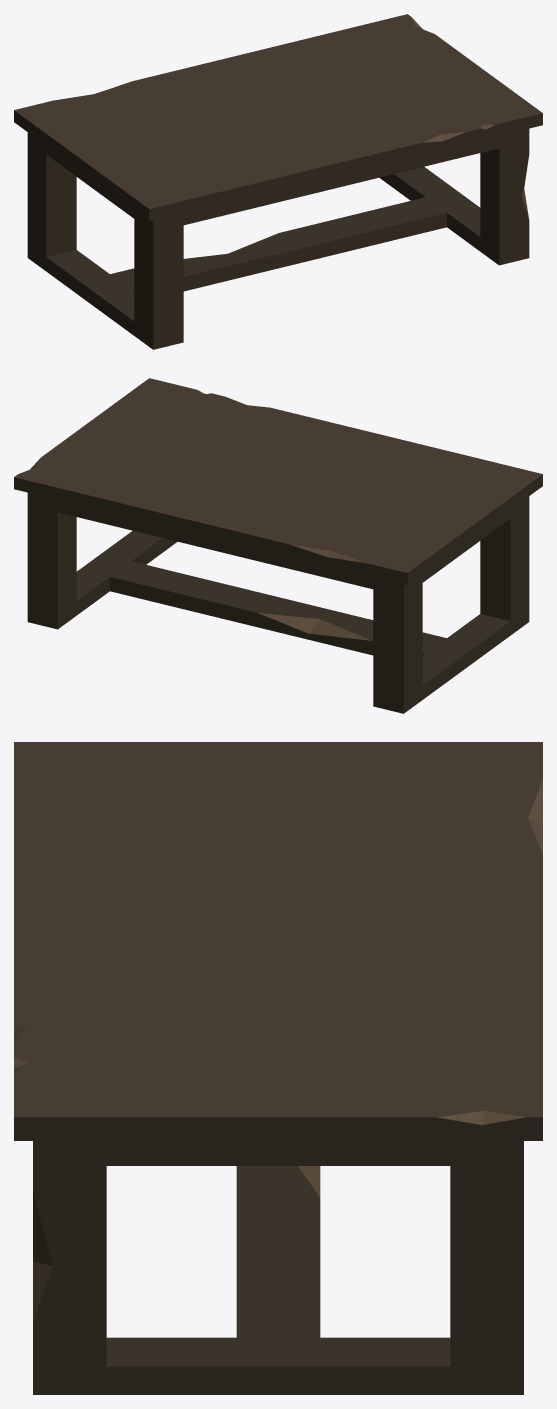
The model's file is SM_Prop_CoffeeTable_01.fbx.
3 views of the same model, one above another, from view 1: azimuth 30°, elevation 25°; view 2: azimuth 150°, elevation 25°; view 3: azimuth 270°, elevation 25° (orthographic). The views are drawn at different scales.
Parts seen in each view (by area): view 1: SM_Prop_CoffeeTable_01; view 2: SM_Prop_CoffeeTable_01; view 3: SM_Prop_CoffeeTable_01.
Part boxes in pixels (bbox=[...]): SM_Prop_CoffeeTable_01: bbox=[14, 14, 542, 349]; SM_Prop_CoffeeTable_01: bbox=[14, 378, 542, 713]; SM_Prop_CoffeeTable_01: bbox=[14, 742, 542, 1394].
Bounding box in the file's own units: 119 × 42.4 × 71.12.
